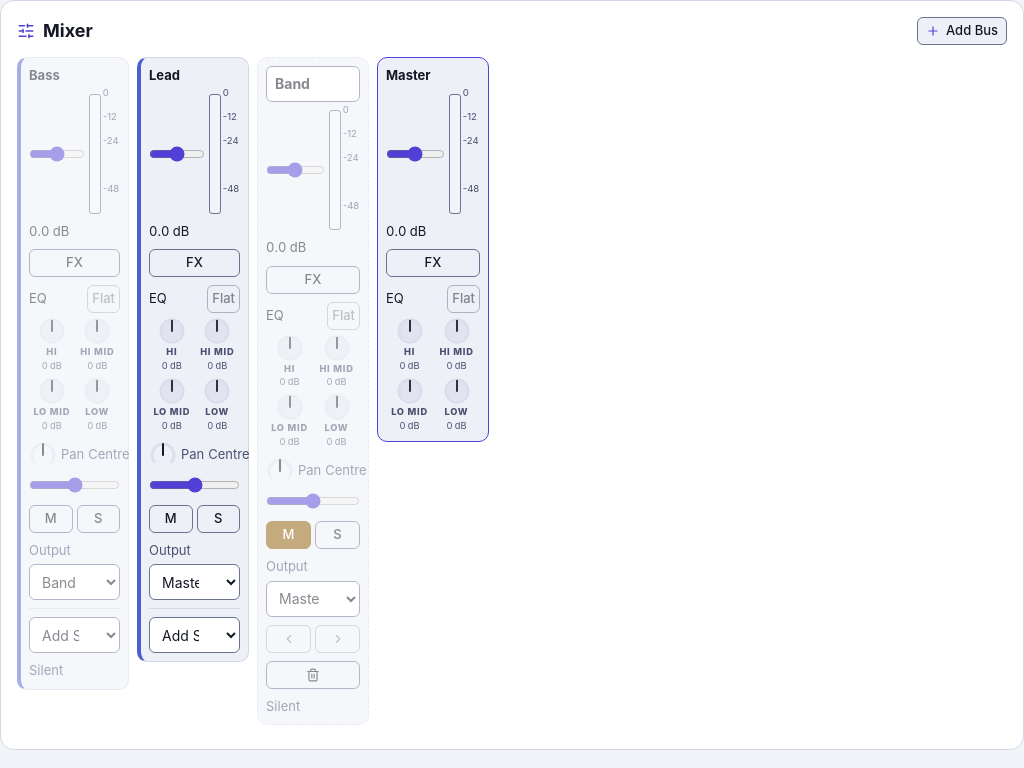
Test: deleting a Bus sends what fed it to the Master, and muting one dims what feeds it
Click the button named "Delete Band" at {"x": 313, "y": 675}, box [266,661,360,689]
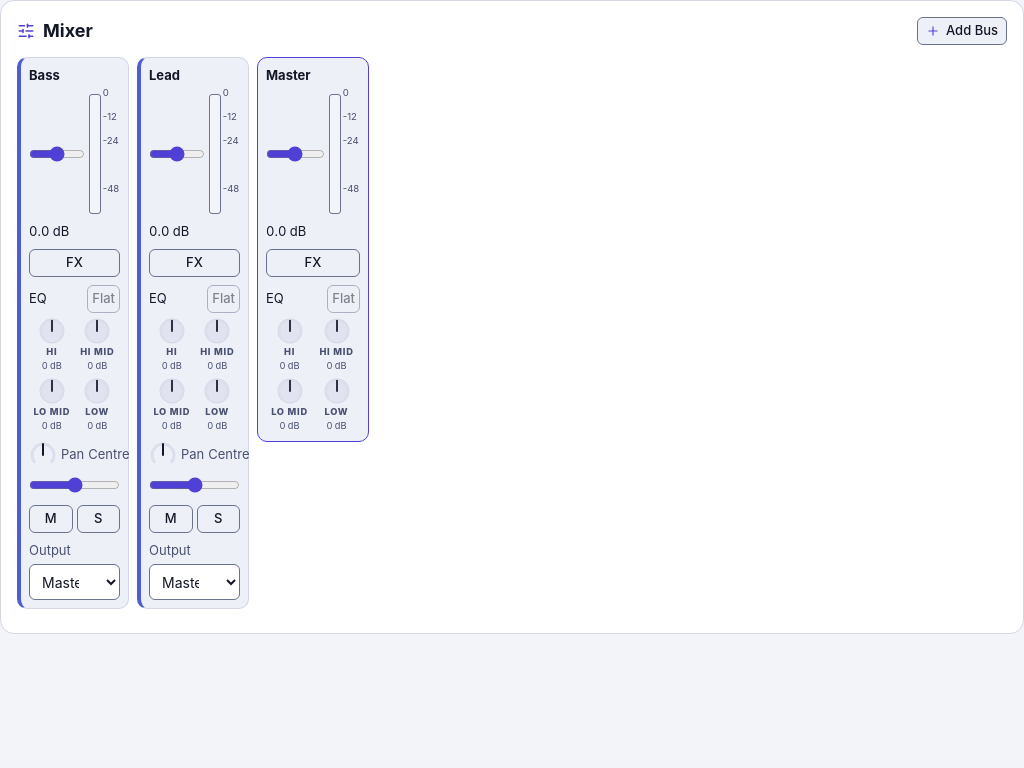
expect the dropdown named "Bass output" shows "Master": met, box [29,564,120,600]
